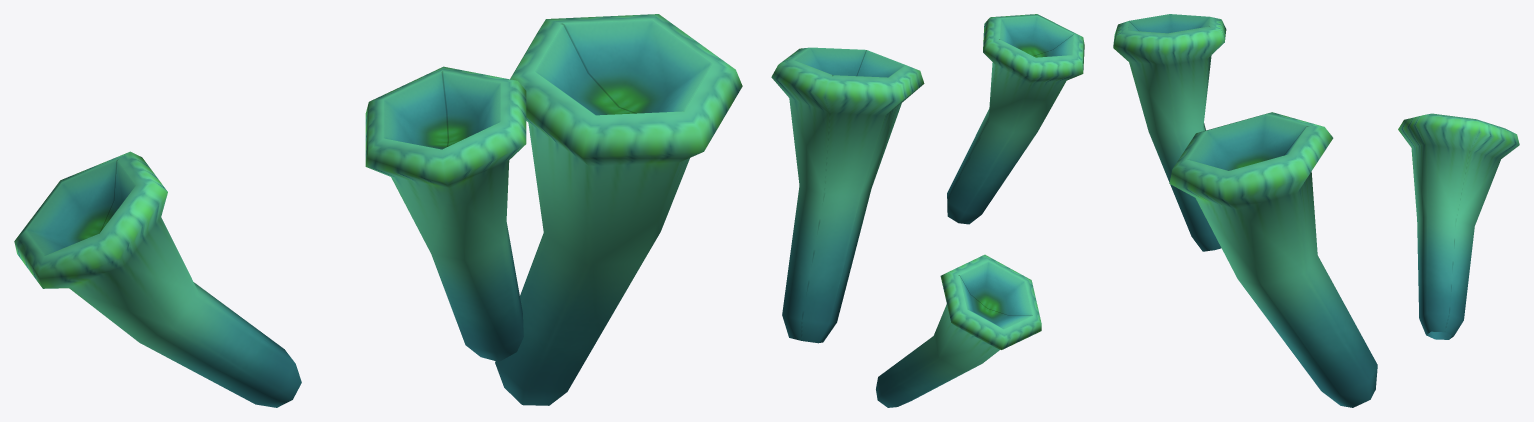
File: Coral_14e.FBX
3 views of the same model, side by side, from view 1: azimuth 30°, elevation 25°; view 2: azimuth 150°, elevation 25°; view 3: azimuth 270°, elevation 25° (orthographic). The views are drawn at different scales.
Visible parts, largest first — view 1: Coral_14e; view 2: Coral_14e; view 3: Coral_14e.
Part boxes in pixels (box(x1,y1,x2,y2)): Coral_14e: box(14, 14, 742, 407); Coral_14e: box(771, 14, 1084, 407); Coral_14e: box(1113, 14, 1519, 407).
Size of the model in its own units: 17.95 by 14.41 by 16.81.
